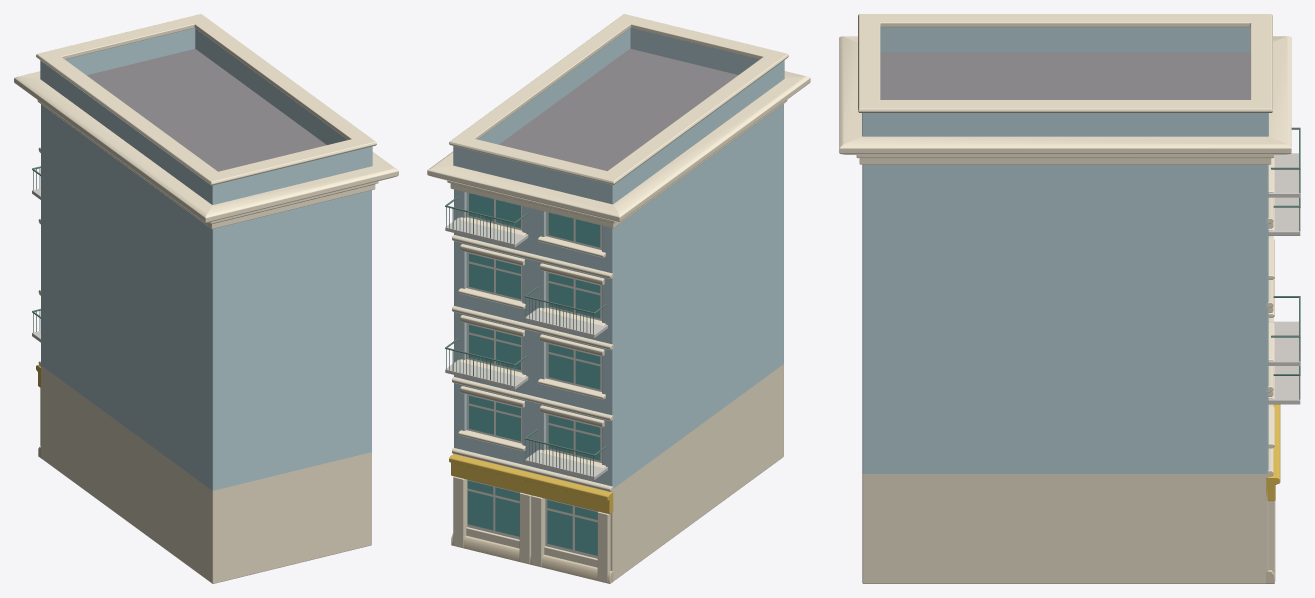
File: far_shophouse_sky_4.glb
3 renders of one model, left to right at view 1: azimuth 30°, elevation 25°; view 2: azimuth 150°, elevation 25°; view 3: azimuth 270°, elevation 25°, orthographic. The views are drawn at different scales.
Visible parts, largest first — view 1: shell, trim; view 2: shell, trim, props, frames; view 3: shell, trim, props.
Boxes of the visible parts, bbox=[...] form: shell: bbox=[41, 49, 371, 583]; trim: bbox=[14, 14, 398, 458]; shell: bbox=[454, 48, 783, 580]; trim: bbox=[427, 14, 810, 583]; props: bbox=[445, 196, 607, 479]; frames: bbox=[466, 192, 601, 558]; shell: bbox=[862, 52, 1268, 583]; trim: bbox=[839, 14, 1291, 583]; props: bbox=[1268, 127, 1300, 404].
Bounding box in the file's own units: 9.1 × 18.15 × 15.91.
